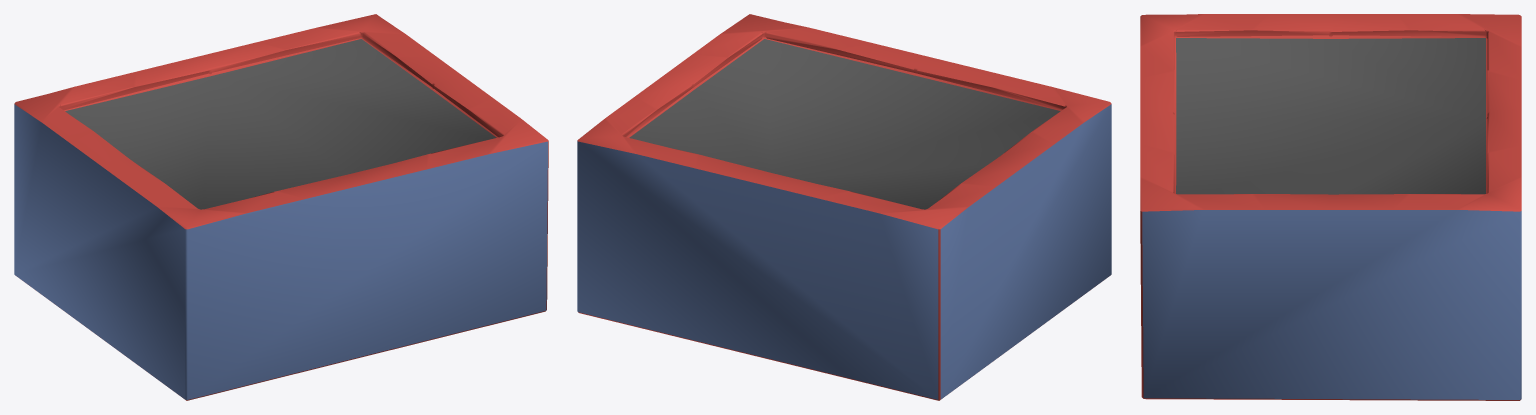
Rendered from box_ver1.fbx.
3 renders of one model, left to right at view 1: azimuth 30°, elevation 25°; view 2: azimuth 150°, elevation 25°; view 3: azimuth 270°, elevation 25°, orthographic. The views are drawn at different scales.
Parts seen in each view (by area): view 1: obj1; view 2: obj1; view 3: obj1.
Boxes of the visible parts, box(x1,y1,x2,y2) form: obj1: box(14, 14, 548, 400); obj1: box(577, 14, 1111, 400); obj1: box(1140, 14, 1521, 400).
Bounding box in the file's own units: 442 × 202 × 364.
